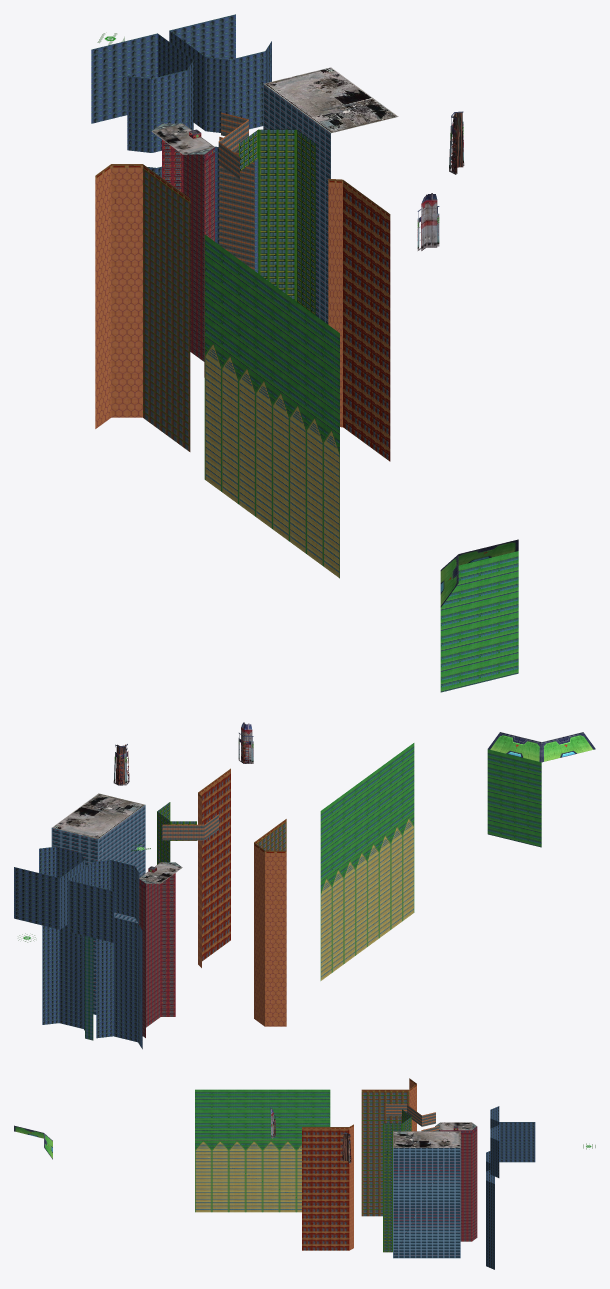
3 views of the same model, one above another, from view 1: azimuth 30°, elevation 25°; view 2: azimuth 150°, elevation 25°; view 3: azimuth 270°, elevation 25° (orthographic). The views are drawn at different scales.
Visible parts, largest first — view 1: s03_pn_03_0, s03_pn_03_12, s03_pn_03_2, s03_pn_03_4, s03_pn_03_8, s03_pn_03_5, s03_pn_03_21, s03_pn_03_10, s03_pn_03_15, s03_pn_03_3, s03_pn_03_9, s03_pn_03_1 (+2 smaller); view 2: s03_pn_03_12, s03_pn_03_0, s03_pn_03_2, s03_pn_03_4, s03_pn_03_15, s03_pn_03_5, s03_pn_03_9, s03_pn_03_10, s03_pn_03_11, s03_pn_03_1, s03_pn_03_7, s03_pn_03_3 (+3 smaller); view 3: s03_pn_03_9, s03_pn_03_2, s03_pn_03_0, s03_pn_03_5, s03_pn_03_8, s03_pn_03_12, s03_pn_03_15, s03_pn_03_21, s03_pn_03_10, s03_pn_03_1, s03_pn_03_4, s03_pn_03_3 (+2 smaller).
Part boxes in pixels (x1,y1,x2,y2): s03_pn_03_0: (204, 234, 518, 692); s03_pn_03_12: (91, 14, 271, 272); s03_pn_03_2: (204, 357, 339, 578); s03_pn_03_4: (95, 168, 342, 428); s03_pn_03_8: (143, 168, 190, 451); s03_pn_03_5: (343, 184, 390, 461); s03_pn_03_21: (239, 129, 315, 315); s03_pn_03_10: (151, 67, 398, 154); s03_pn_03_15: (162, 135, 214, 377); s03_pn_03_3: (218, 112, 254, 270); s03_pn_03_9: (263, 84, 330, 324); s03_pn_03_1: (204, 337, 339, 455); s03_pn_03_12: (14, 846, 142, 1049); s03_pn_03_0: (320, 743, 541, 881); s03_pn_03_2: (320, 828, 414, 980); s03_pn_03_4: (198, 796, 286, 1026); s03_pn_03_15: (138, 870, 175, 1037); s03_pn_03_5: (200, 771, 230, 961); s03_pn_03_9: (51, 805, 145, 1014); s03_pn_03_10: (52, 793, 182, 883); s03_pn_03_11: (488, 732, 595, 762); s03_pn_03_1: (320, 814, 414, 895); s03_pn_03_7: (113, 722, 253, 785); s03_pn_03_3: (159, 814, 218, 862); s03_pn_03_9: (393, 1148, 460, 1258); s03_pn_03_2: (195, 1151, 301, 1212); s03_pn_03_0: (195, 1089, 330, 1140); s03_pn_03_5: (302, 1129, 349, 1250); s03_pn_03_8: (361, 1091, 409, 1216); s03_pn_03_12: (486, 1106, 535, 1269); s03_pn_03_15: (460, 1130, 477, 1241); s03_pn_03_21: (383, 1109, 411, 1252); s03_pn_03_10: (393, 1122, 471, 1147); s03_pn_03_1: (195, 1140, 301, 1150); s03_pn_03_4: (349, 1080, 416, 1250); s03_pn_03_3: (385, 1104, 439, 1131).
Size of the model in its own units: 4597 by 3534 by 12904.
